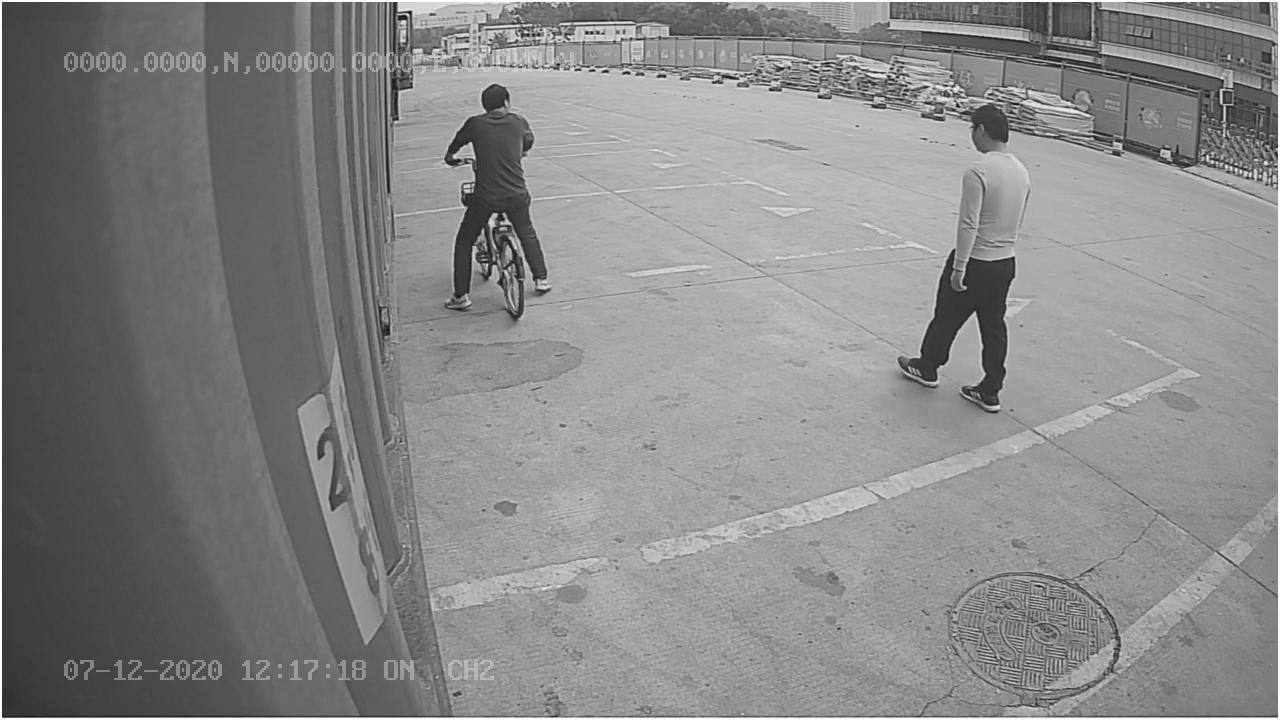person: (895, 99, 1033, 417)
